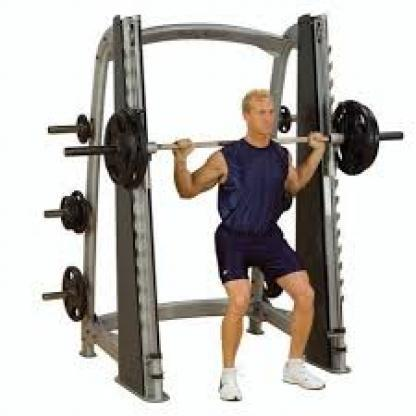smith machine: (42, 12, 404, 402)
